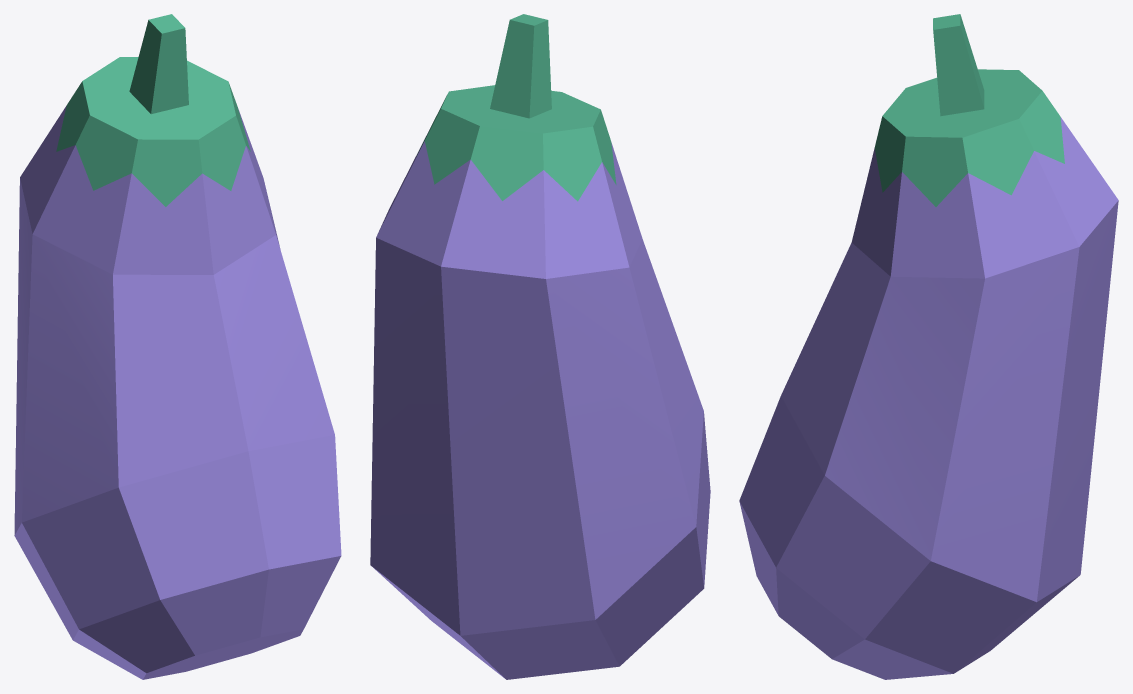
The model's file is eggplant.fbx.
3 renders of one model, left to right at view 1: azimuth 30°, elevation 25°; view 2: azimuth 150°, elevation 25°; view 3: azimuth 270°, elevation 25°, orthographic. The views are drawn at different scales.
Parts seen in each view (by area): view 1: eggplant; view 2: eggplant; view 3: eggplant.
Boxes of the visible parts, box(x1,y1,x2,y2) form: eggplant: box(14, 14, 341, 679); eggplant: box(370, 14, 710, 679); eggplant: box(739, 14, 1118, 679).
Bounding box in the file's own units: 2.04 × 4.05 × 2.16.
